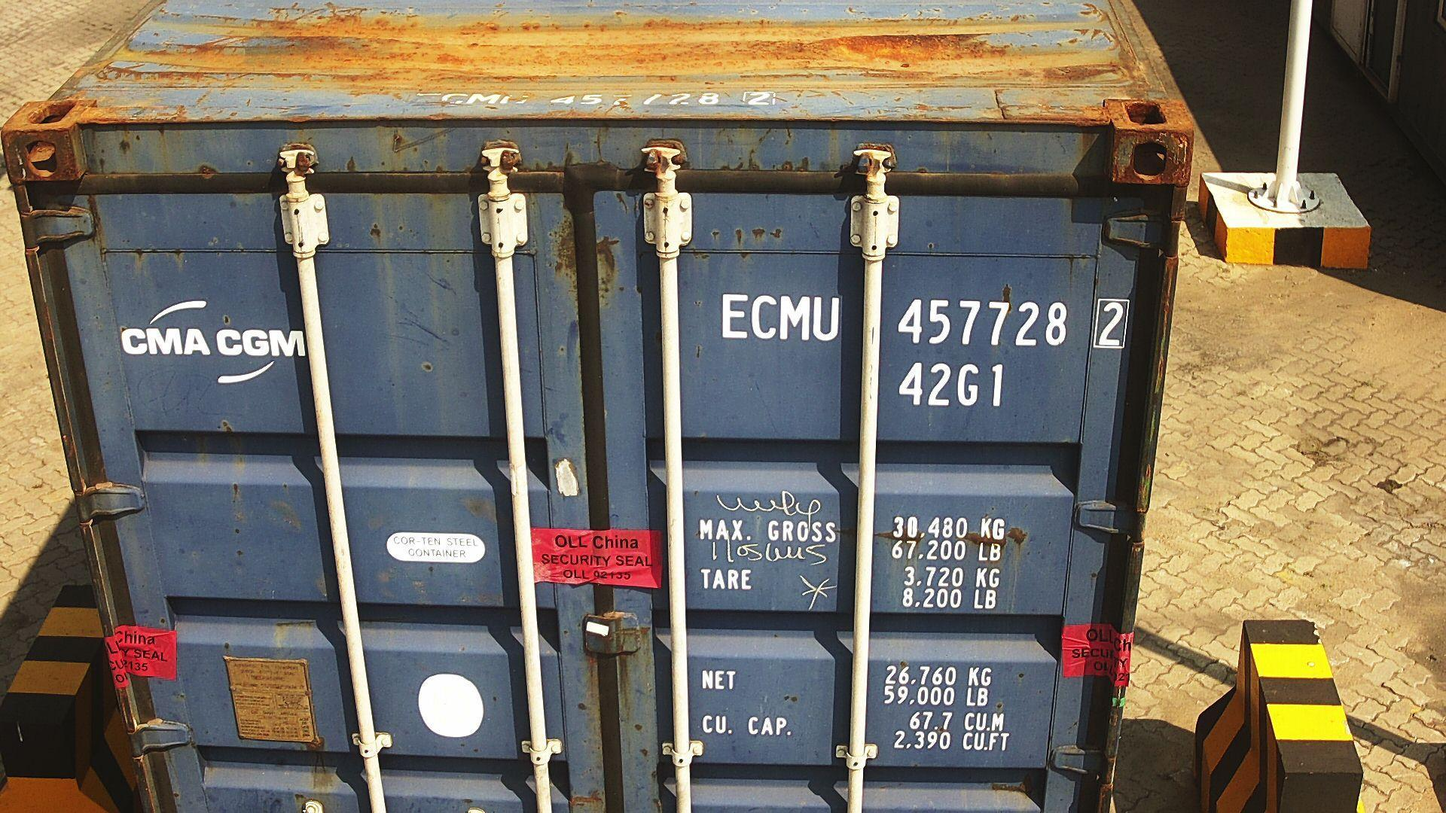container-numbers: (715, 291, 1136, 354), (896, 358, 1013, 412)
